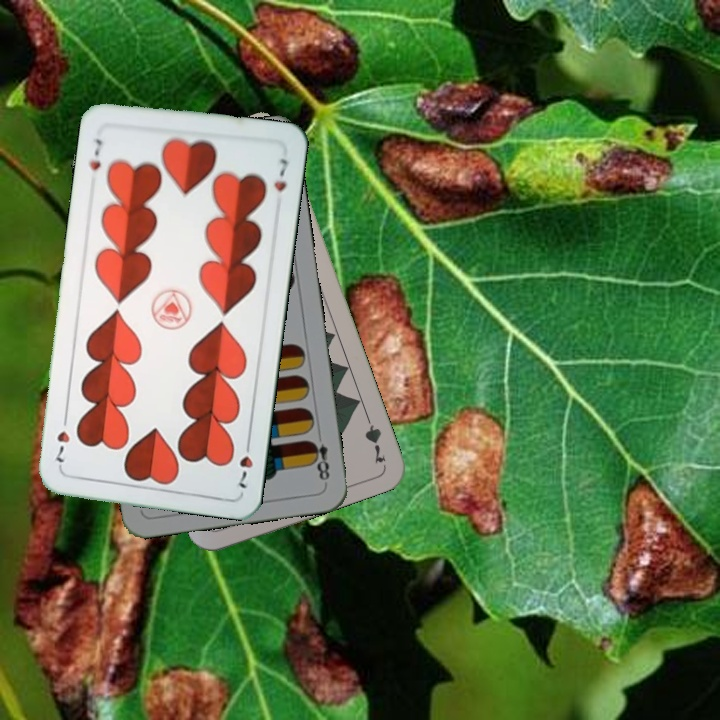E8: (306, 427, 332, 486)
G7: (360, 408, 389, 466)
H7: (232, 435, 256, 491), (85, 134, 104, 173)
